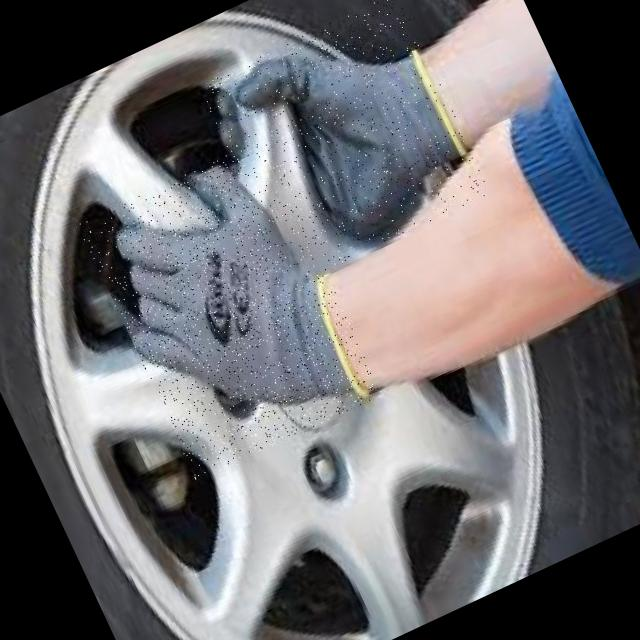forklift: (87, 150, 376, 475), (224, 0, 478, 261)
